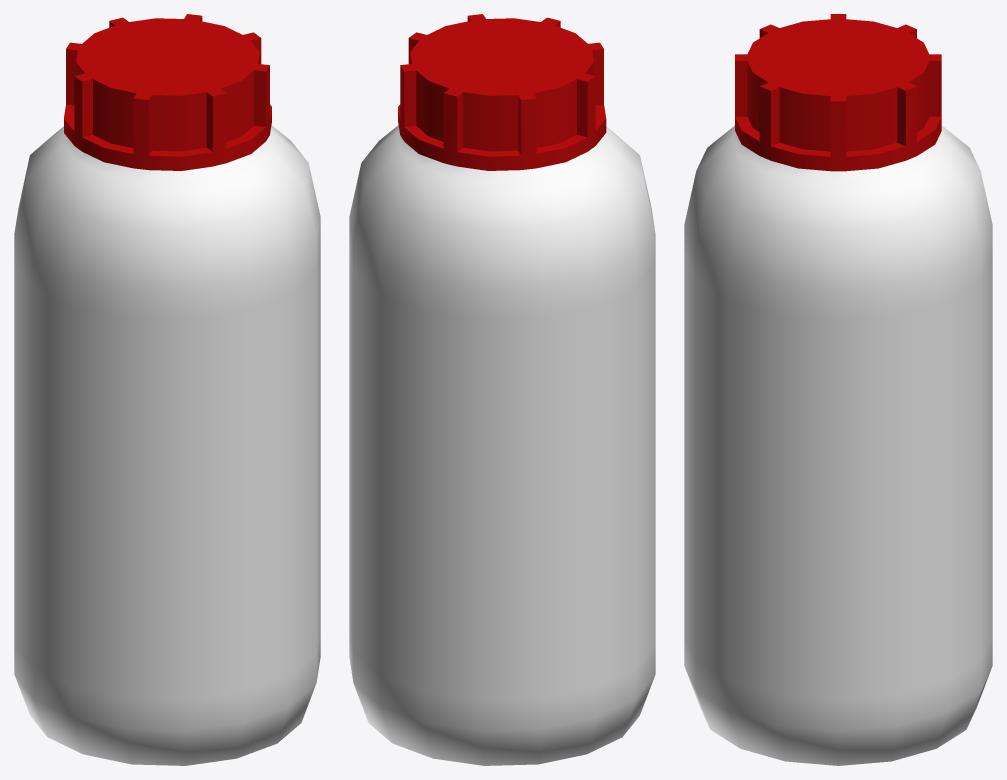
File: PlasticBottle01.fbx
3 views of the same model, side by side, from view 1: azimuth 30°, elevation 25°; view 2: azimuth 150°, elevation 25°; view 3: azimuth 270°, elevation 25° (orthographic).
Visible parts, largest first — view 1: PlasticBottle01; view 2: PlasticBottle01; view 3: PlasticBottle01.
Part boxes in pixels (x1=…): PlasticBottle01: x1=14, y1=14, x2=320, y2=765; PlasticBottle01: x1=349, y1=14, x2=655, y2=765; PlasticBottle01: x1=684, y1=14, x2=992, y2=765.
Size of the model in its own units: 10 by 10 by 23.65.
